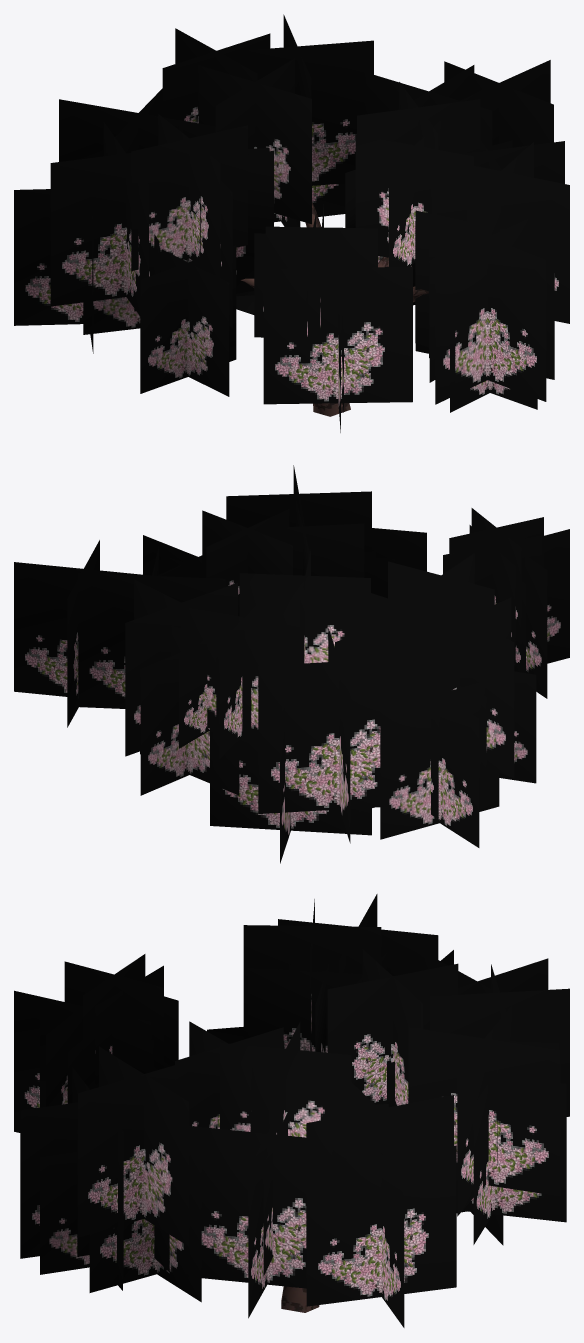
File: cherry2_lod1.fbx
3 views of the same model, one above another, from view 1: azimuth 30°, elevation 25°; view 2: azimuth 150°, elevation 25°; view 3: azimuth 270°, elevation 25° (orthographic). The views are drawn at different scales.
Visible parts, largest first — view 1: cherry2_lod1; view 2: cherry2_lod1; view 3: cherry2_lod1.
Part boxes in pixels (left/top/right/bottom): cherry2_lod1: left=14, top=14, right=569, bottom=432; cherry2_lod1: left=14, top=465, right=569, bottom=863; cherry2_lod1: left=14, top=894, right=569, bottom=1327.
Bounding box in the file's own units: 13.56 × 7.64 × 12.21.
Materials: 2 (2 with a texture image).
